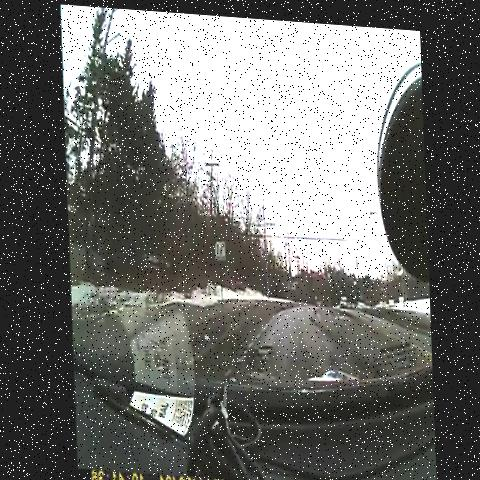pothole: (247, 323, 278, 371)
